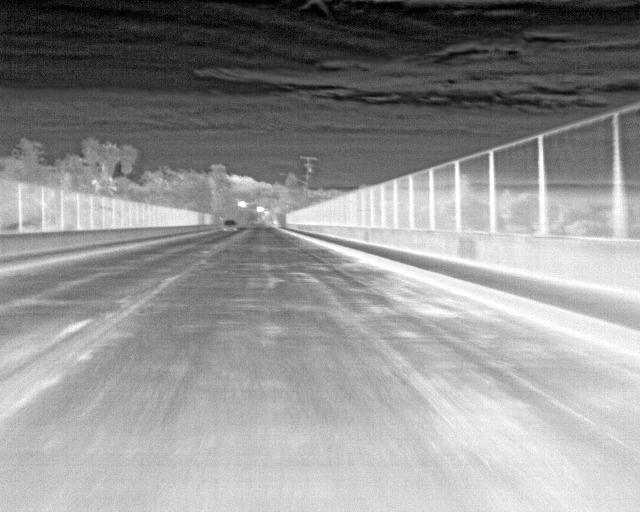car: (222, 220, 239, 234)
